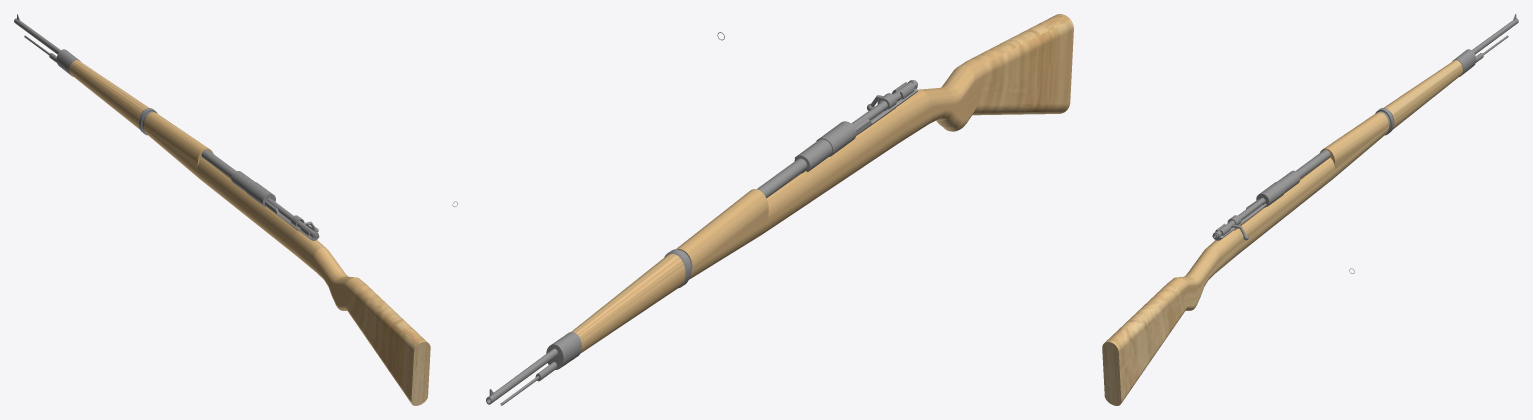
File: Kar98 model.glb
The picture shows the model from 3 angles, left to right: view 1: azimuth 30°, elevation 25°; view 2: azimuth 150°, elevation 25°; view 3: azimuth 330°, elevation 25°; orthographic projection. The views are drawn at different scales.
Visible parts, largest first — view 1: Cube, Cube.002, Cube.001; view 2: Cube, Cube.002, Cube.001, Cube.003; view 3: Cube, Cube.002, Cube.001, Cube.003.
Boxes of the visible parts, left/top/right/bottom form: Cube: left=70, top=60, right=430, bottom=405; Cube.002: left=201, top=150, right=319, bottom=240; Cube.001: left=14, top=14, right=157, bottom=135; Cube: left=571, top=14, right=1073, bottom=353; Cube.002: left=757, top=82, right=918, bottom=198; Cube.001: left=486, top=249, right=692, bottom=405; Cube.003: left=851, top=80, right=917, bottom=127; Cube: left=1102, top=60, right=1462, bottom=405; Cube.002: left=1212, top=149, right=1330, bottom=240; Cube.001: left=1375, top=14, right=1518, bottom=135; Cube.003: left=1212, top=197, right=1265, bottom=240.
Size of the model in its own units: 5.34 by 3.53 by 25.28.
Materials: 2 (1 with a texture image).
